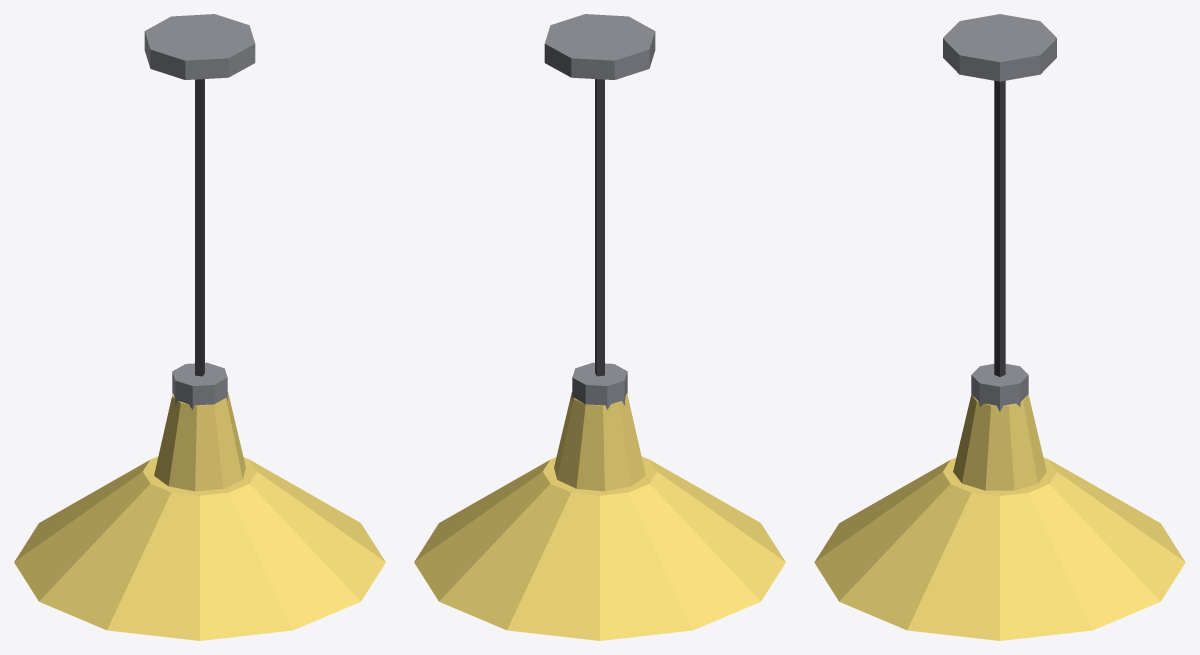
Rendered from prop_ceiling_lamp_01.glb.
3 views of the same model, side by side, from view 1: azimuth 30°, elevation 25°; view 2: azimuth 150°, elevation 25°; view 3: azimuth 270°, elevation 25° (orthographic).
Parts seen in each view (by area): view 1: prop_ceiling_lamp_01_body; view 2: prop_ceiling_lamp_01_body; view 3: prop_ceiling_lamp_01_body.
Boxes of the visible parts, x1,y1,x2,y2 form: prop_ceiling_lamp_01_body: [14, 14, 385, 640]; prop_ceiling_lamp_01_body: [414, 14, 785, 640]; prop_ceiling_lamp_01_body: [814, 14, 1185, 640].
Size of the model in its own units: 0.52 by 0.88 by 0.52.
